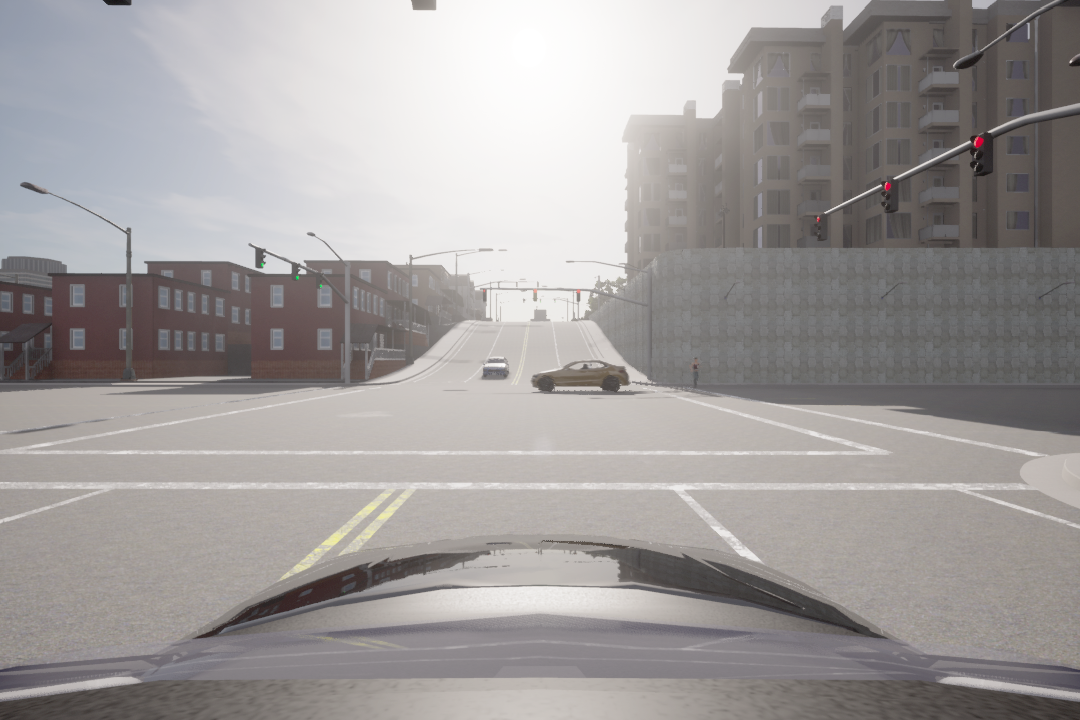TrafficLight: (879, 171, 904, 216), (971, 134, 993, 180), (813, 213, 831, 241), (253, 244, 266, 271), (290, 260, 301, 281), (316, 272, 325, 290)
